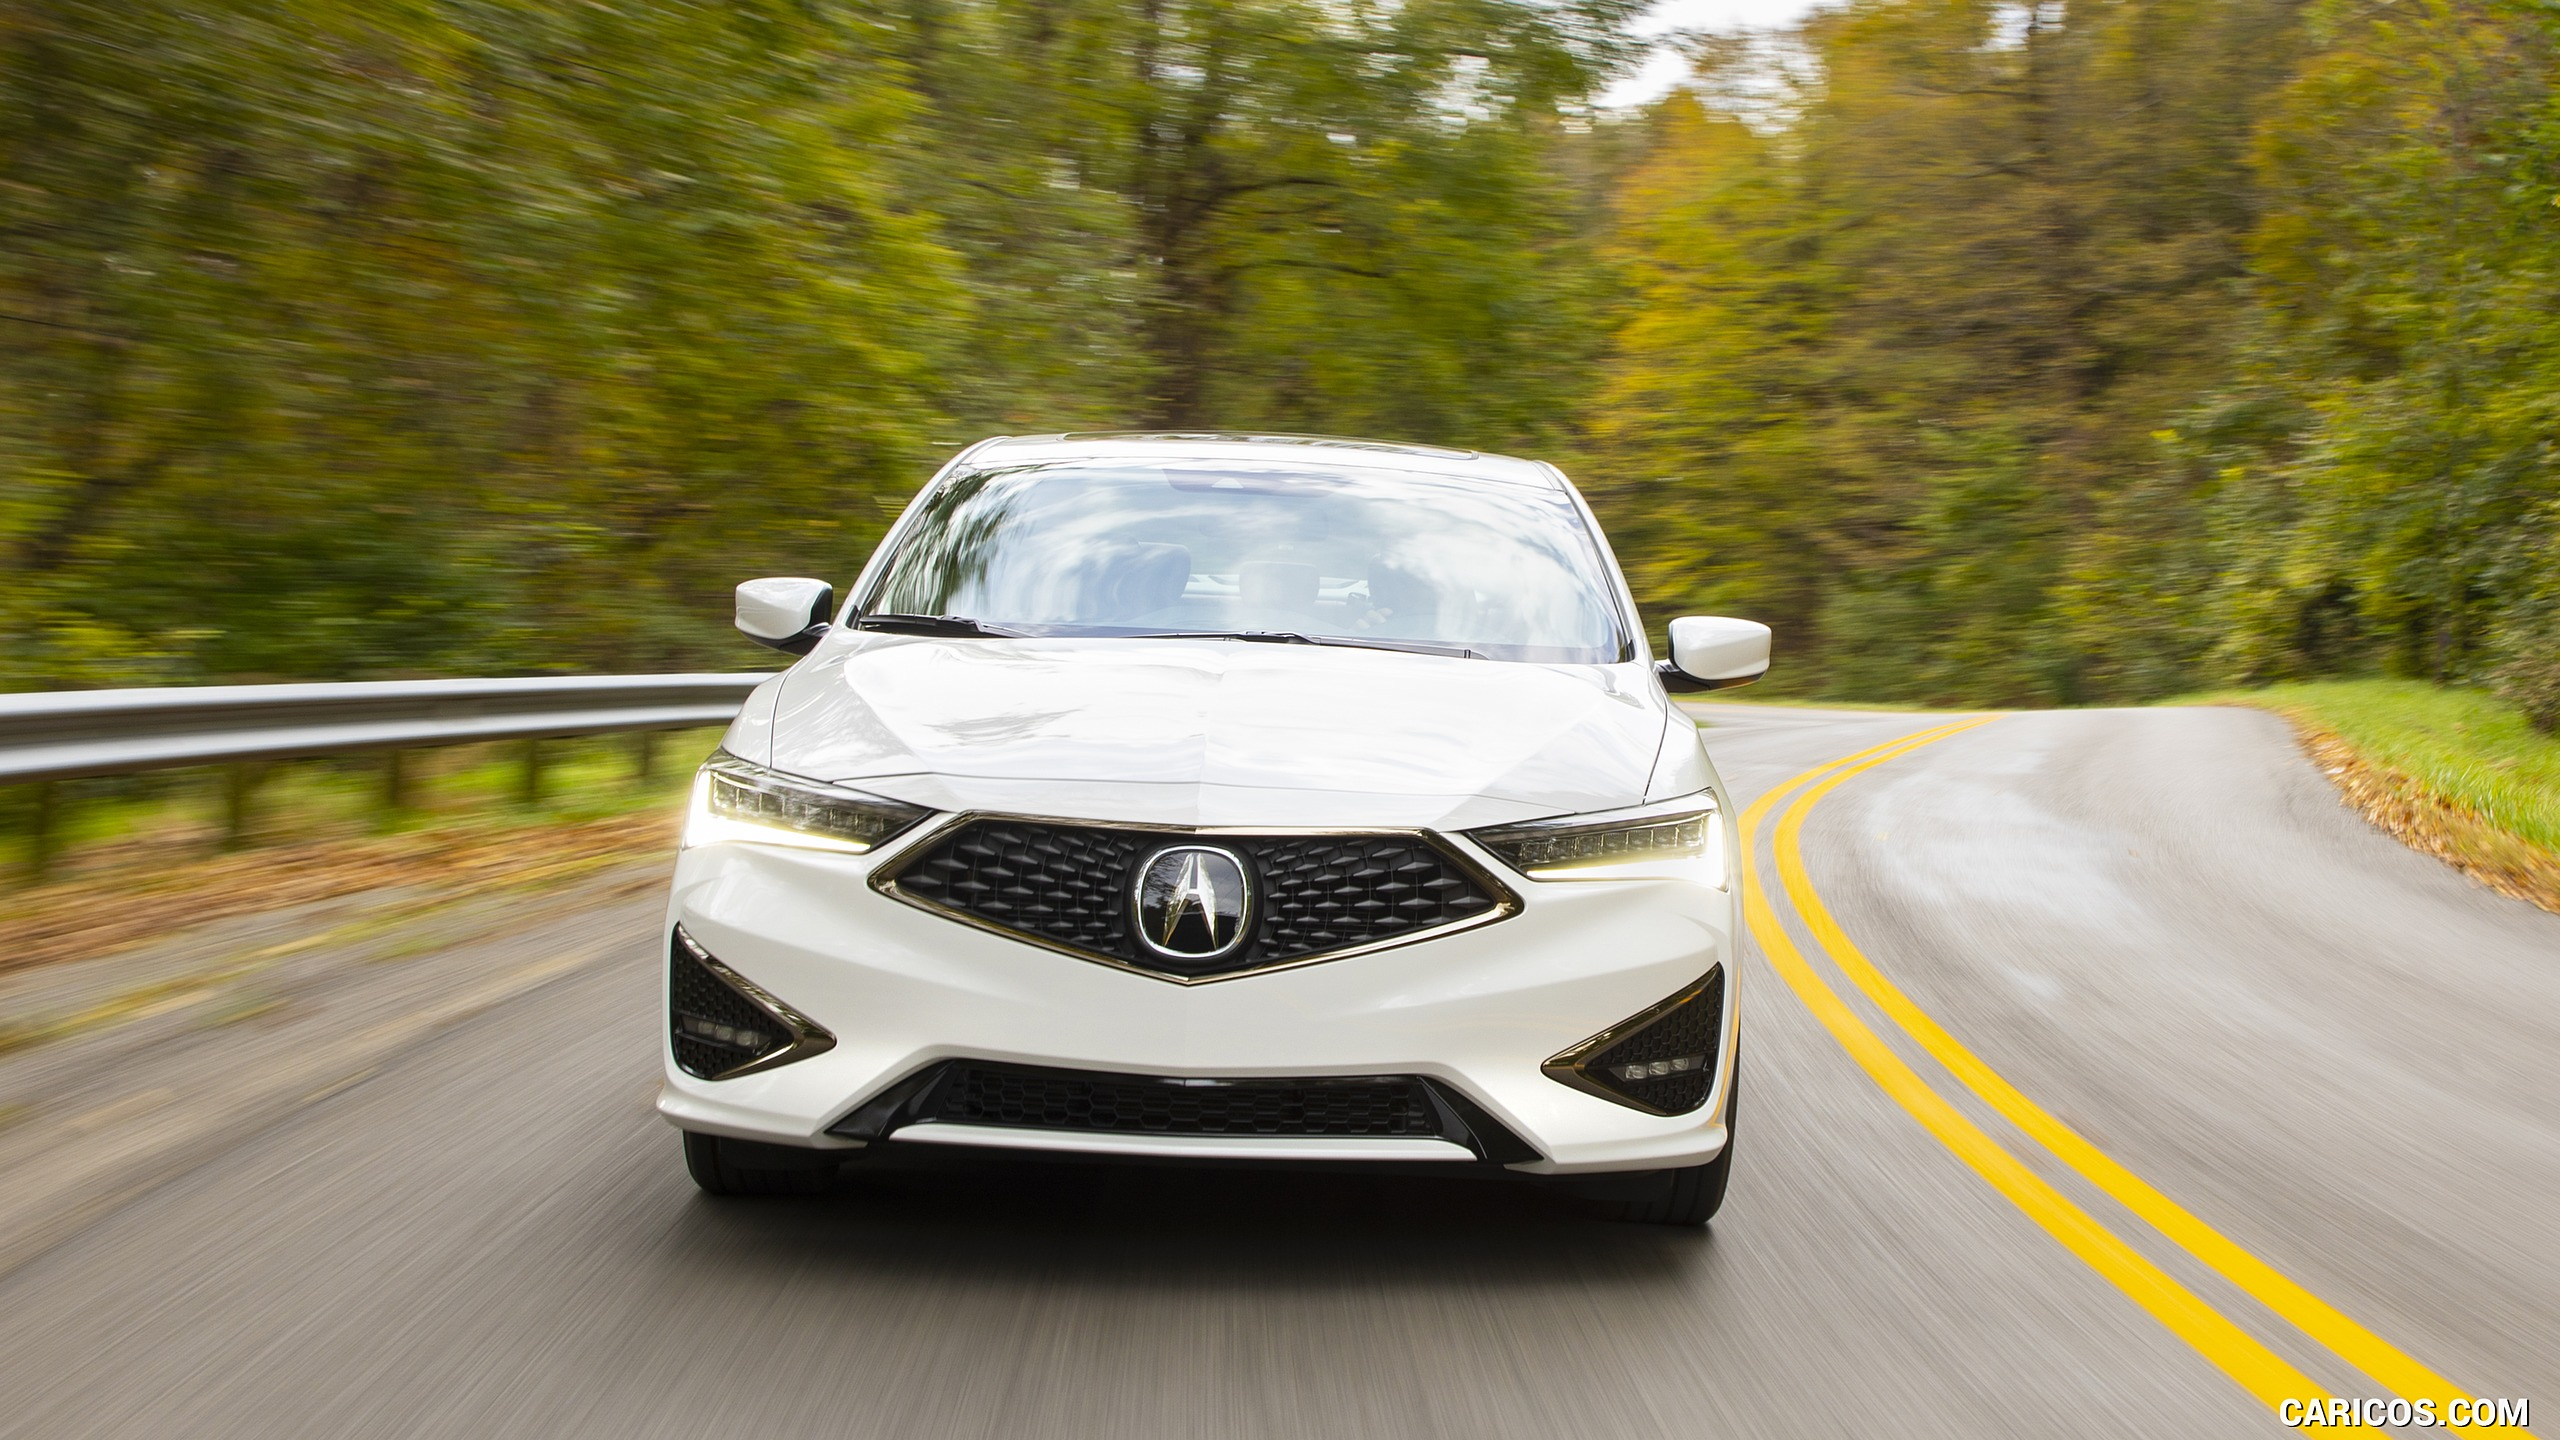Fog Lamp & Scope: (1598, 983, 1732, 1102)
Front: (652, 658, 1737, 1180)
Front Bumper: (659, 983, 1746, 1173)
Grill: (907, 833, 1487, 956)
Headlight: (1486, 791, 1735, 879)
